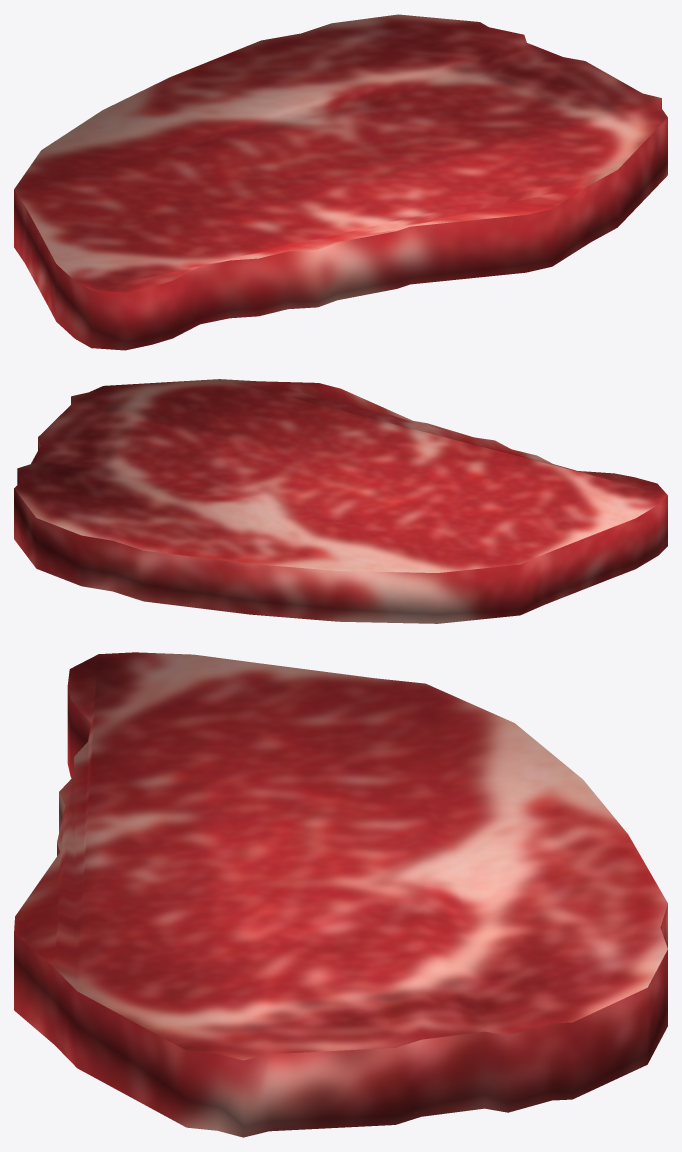
Rendered from meat_2.glb.
3 views of the same model, one above another, from view 1: azimuth 30°, elevation 25°; view 2: azimuth 150°, elevation 25°; view 3: azimuth 270°, elevation 25° (orthographic). The views are drawn at different scales.
Visible parts, largest first — view 1: Meat2_Material.002_0; view 2: Meat2_Material.002_0; view 3: Meat2_Material.002_0.
Boxes of the visible parts, x1=… form: Meat2_Material.002_0: x1=14, y1=14, x2=667, y2=350; Meat2_Material.002_0: x1=14, y1=379, x2=667, y2=623; Meat2_Material.002_0: x1=14, y1=652, x2=667, y2=1137.
Bounding box in the file's own units: 0.5921 × 0.0521 × 0.4008.
1 material, 1 textured.
